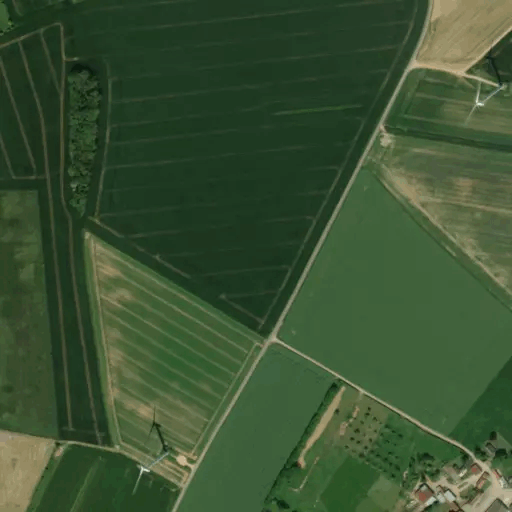wt: (457, 34, 512, 132), (124, 402, 175, 499)
